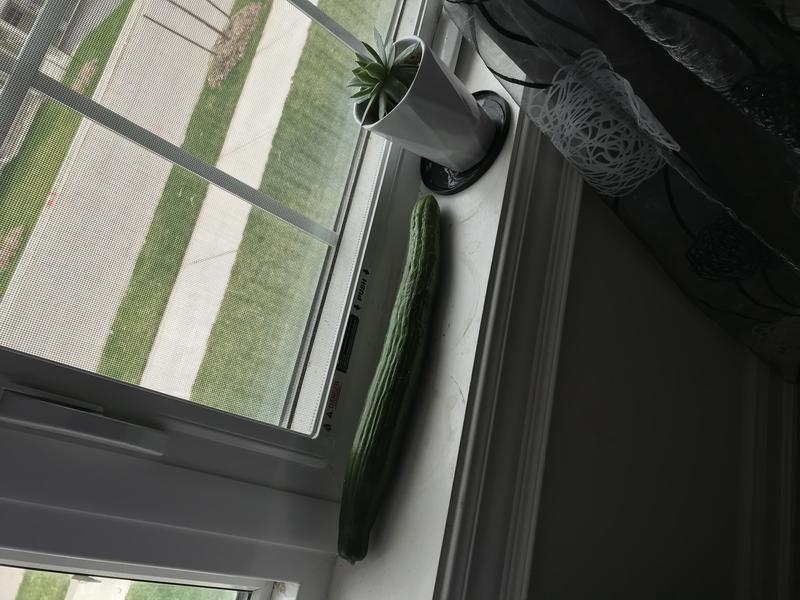cucumber: (328, 187, 454, 571)
